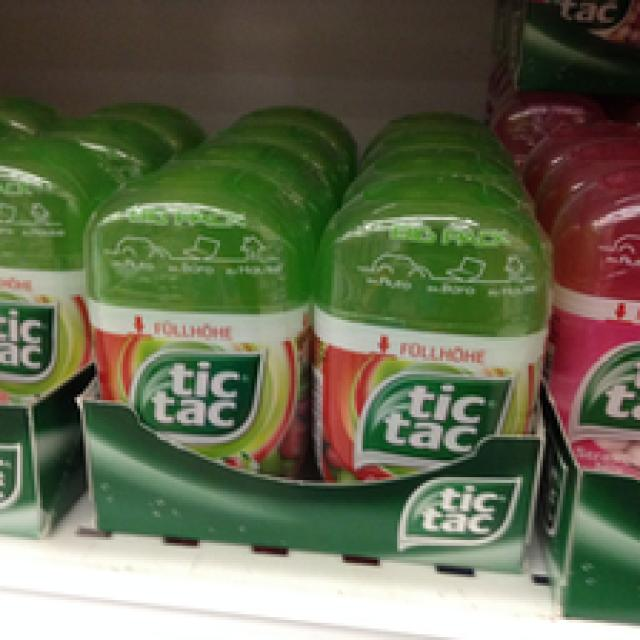groceries: (286, 177, 548, 554), (77, 160, 306, 523), (523, 194, 637, 506), (0, 126, 97, 454)
